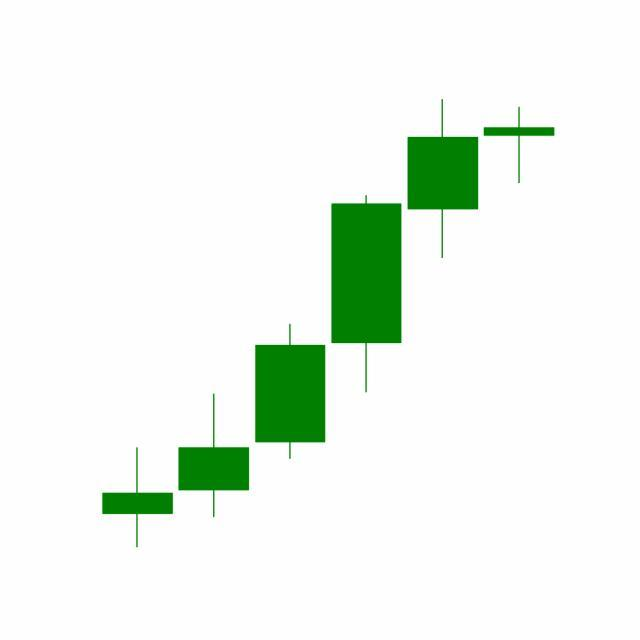Advance Block: (326, 100, 555, 398)
